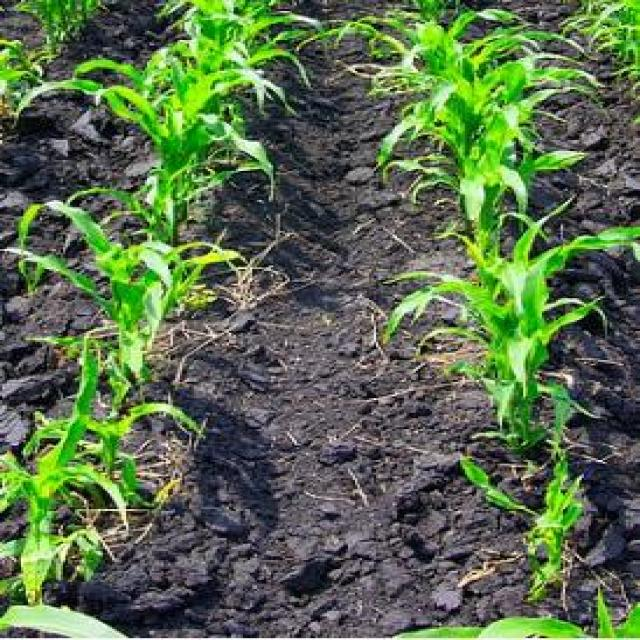row: (67, 3, 493, 640), (491, 0, 640, 619), (2, 0, 190, 454)
